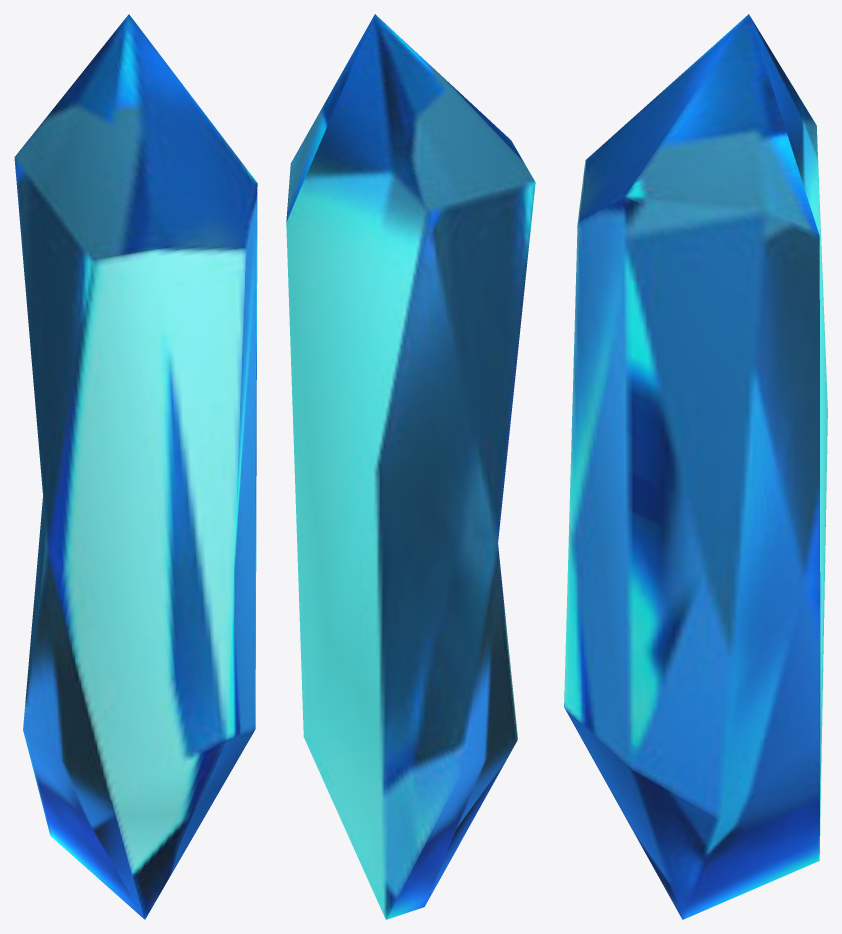
The model's file is Jewellery3.glb.
The picture shows the model from 3 angles, left to right: view 1: azimuth 30°, elevation 25°; view 2: azimuth 150°, elevation 25°; view 3: azimuth 270°, elevation 25°; orthographic projection. The views are drawn at different scales.
Parts seen in each view (by area): view 1: Jewel01; view 2: Jewel01; view 3: Jewel01.
Part boxes in pixels (x1,y1,x2,y2): Jewel01: [14, 14, 257, 919]; Jewel01: [286, 14, 535, 919]; Jewel01: [564, 14, 827, 919].
Size of the model in its own units: 0.0607 by 0.2958 by 0.0774.
1 material, 1 textured.
